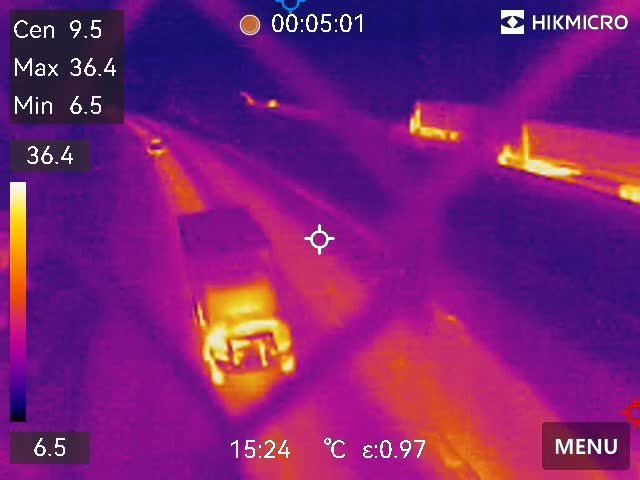heavyTruck: (161, 208, 299, 378), (495, 116, 640, 211), (401, 95, 505, 146)
